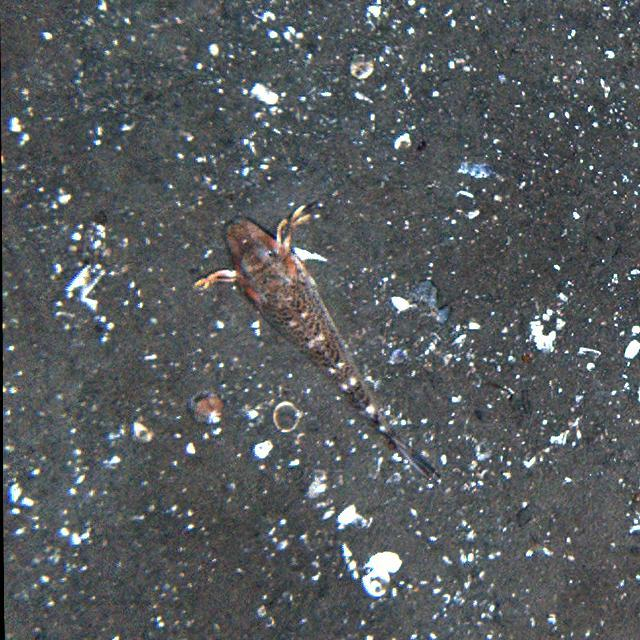roundfish: (192, 206, 444, 490)
